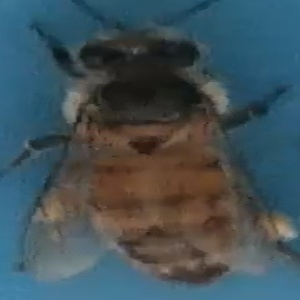bee: (13, 8, 298, 289)
